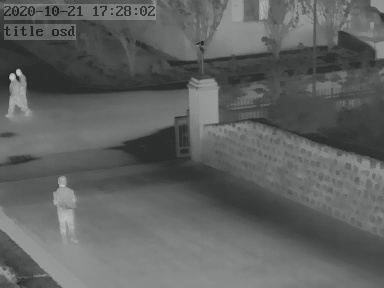person: (53, 170, 78, 240), (5, 66, 28, 116)
